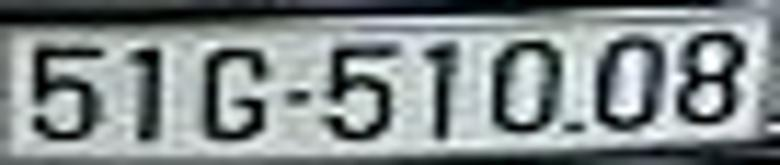-: (278, 86, 316, 112)
.: (566, 114, 586, 140)
0: (593, 35, 669, 134), (491, 38, 560, 138)
1: (419, 37, 458, 139), (127, 47, 165, 143)
5: (28, 43, 102, 140), (329, 44, 399, 142)
8: (678, 28, 748, 130)
G: (199, 46, 268, 144)
